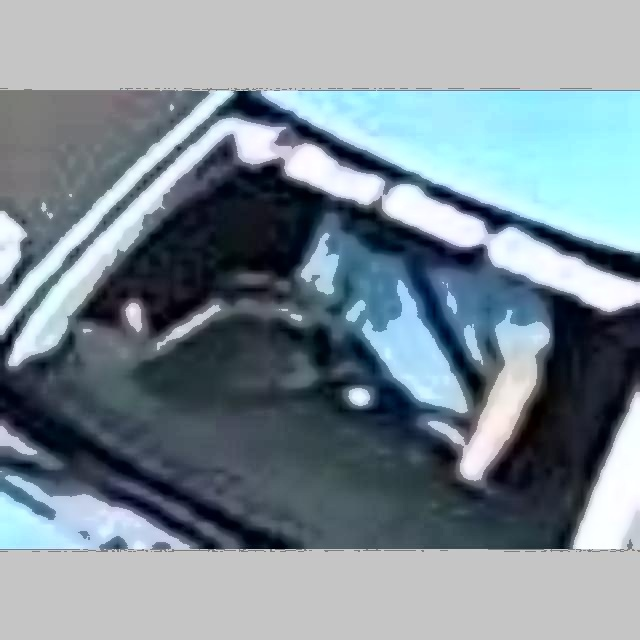pakai: (283, 206, 566, 455)
